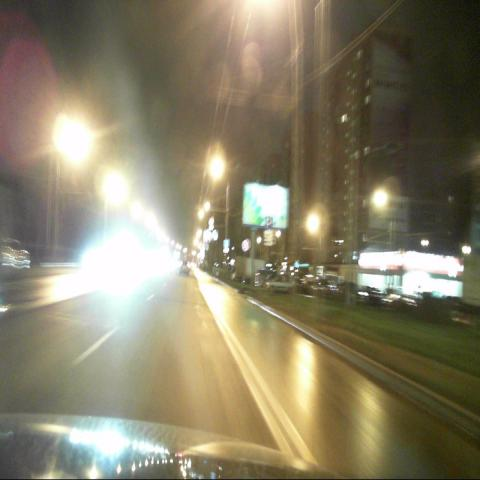6_4: (265, 216, 273, 230)
